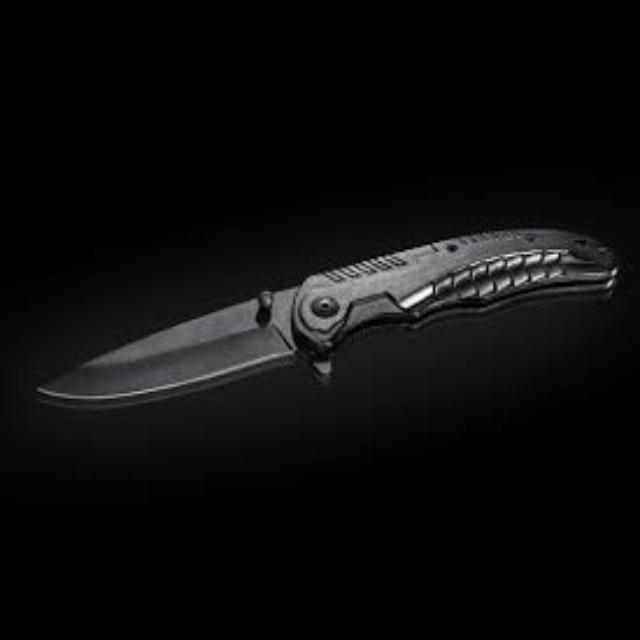knife: (35, 223, 619, 409)
